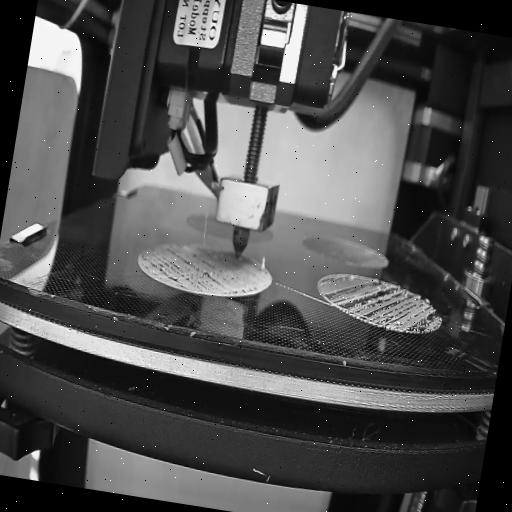under_extrusion: (314, 268, 445, 332), (132, 248, 242, 293), (238, 276, 263, 300)
